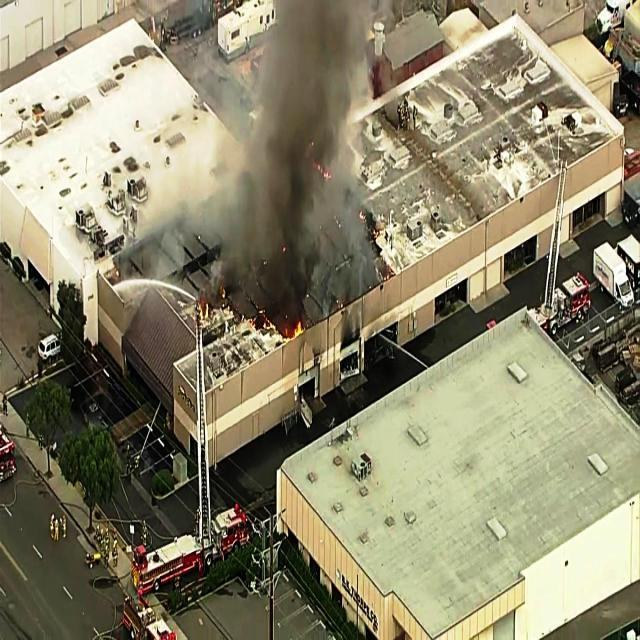Fire: (244, 309, 278, 334), (193, 288, 210, 324), (284, 322, 304, 342)
Smoke: (211, 0, 380, 296)
